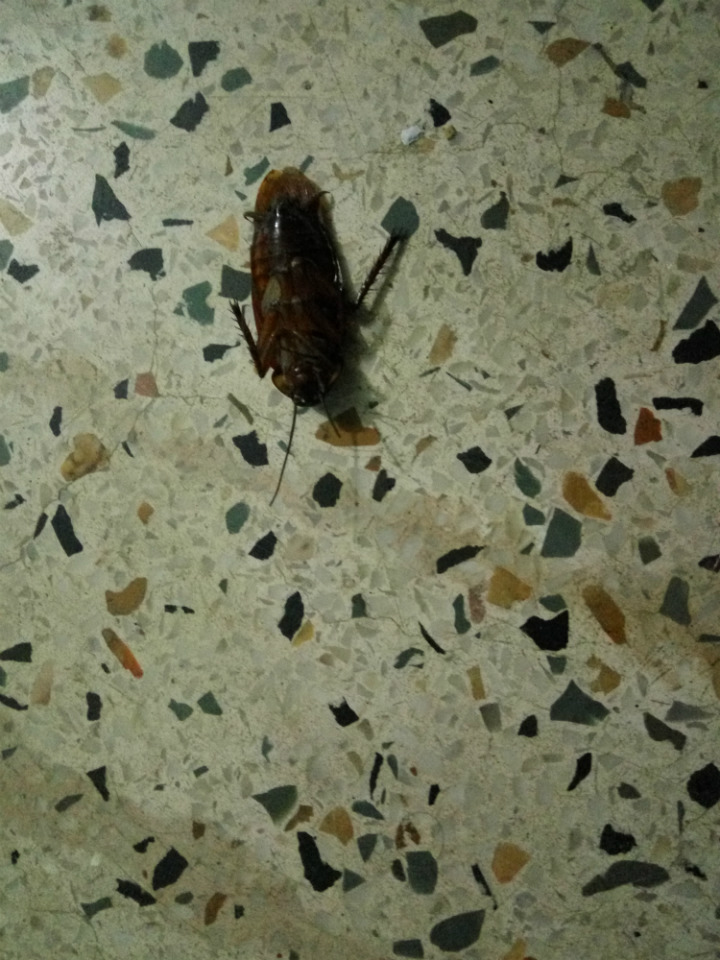cockroach: (141, 135, 466, 534)
